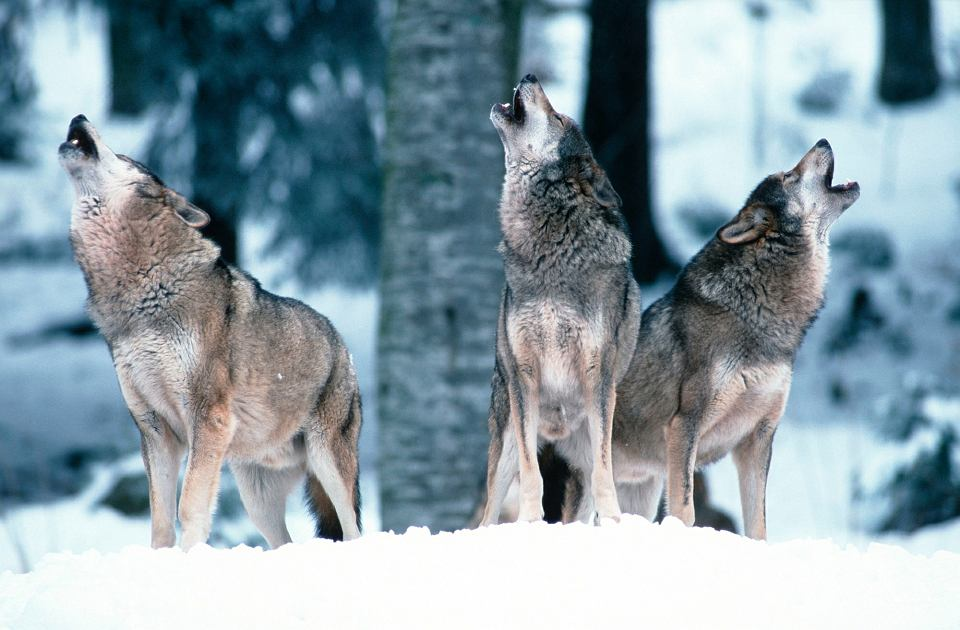wolf: (38, 98, 394, 546), (568, 126, 896, 526), (469, 76, 642, 527)
